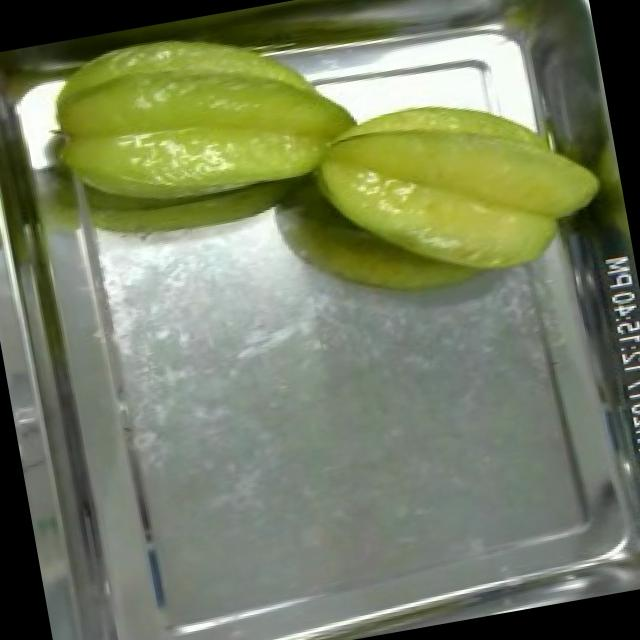fruit: (22, 0, 368, 250), (292, 66, 622, 314)
